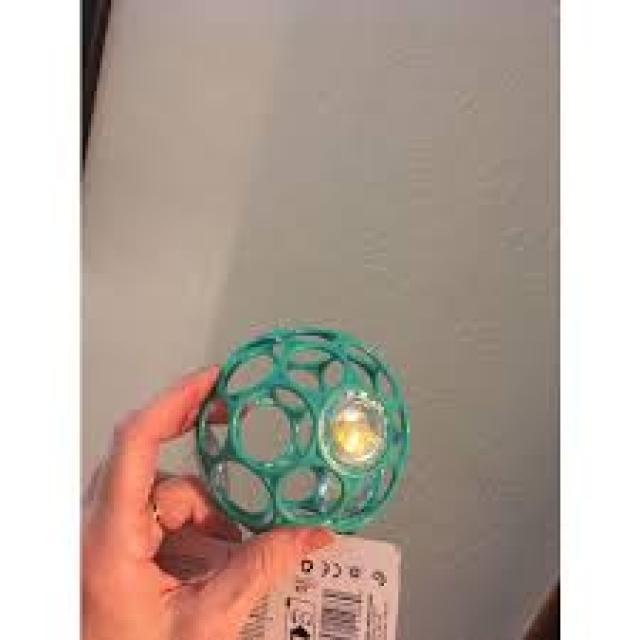hard-toy: (197, 327, 410, 533)
